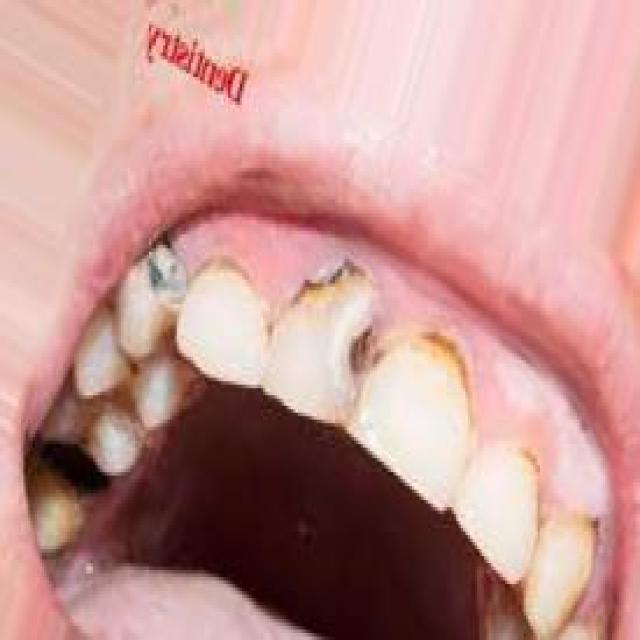caries: (279, 250, 380, 431), (27, 427, 124, 523), (412, 314, 482, 443), (132, 226, 196, 341), (519, 436, 550, 505)
